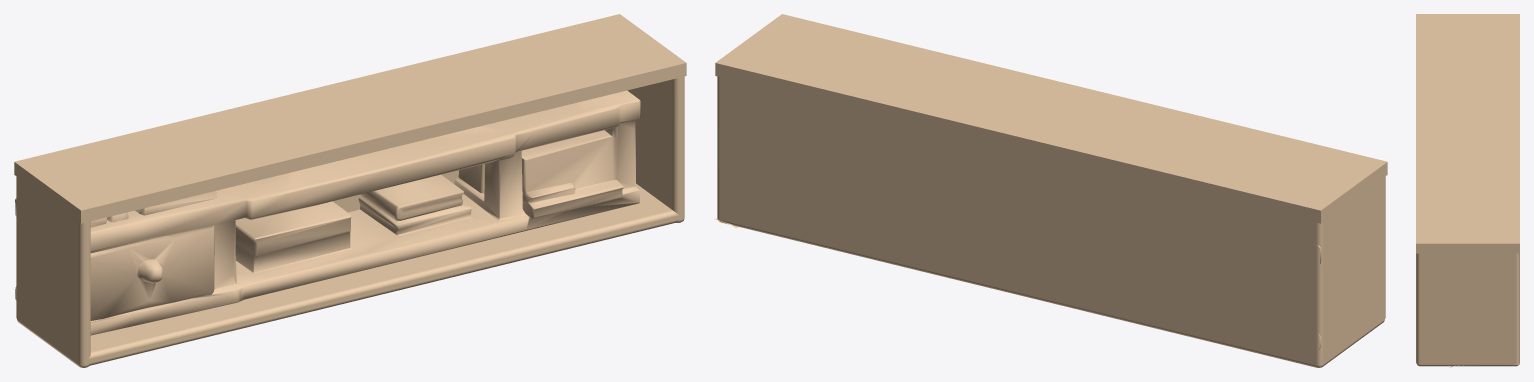
Rendered from show_living_console.glb.
3 renders of one model, left to right at view 1: azimuth 30°, elevation 25°; view 2: azimuth 150°, elevation 25°; view 3: azimuth 270°, elevation 25°, orthographic. The views are drawn at different scales.
Size of the model in its own units: 3.4 by 0.86 by 0.65.
